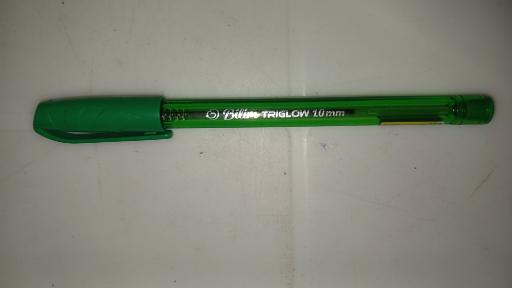pen: (30, 94, 493, 144)
